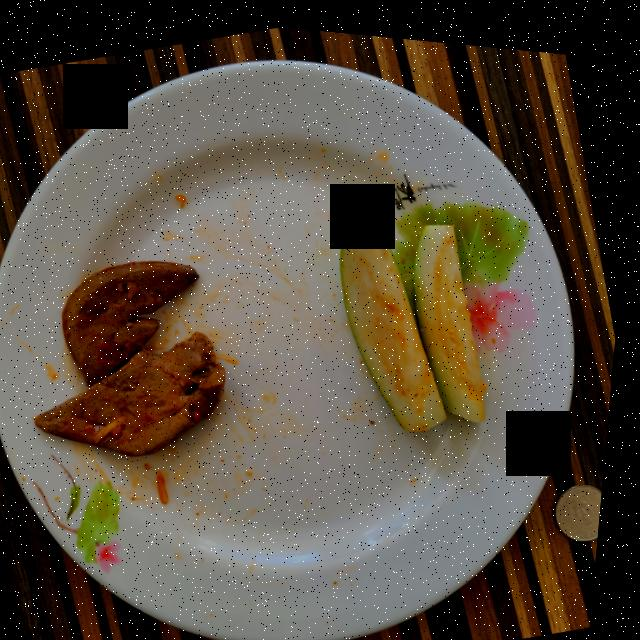coin: (563, 471, 610, 528)
guava -sliced-: (344, 214, 492, 422)
pig liver: (41, 257, 232, 452)
